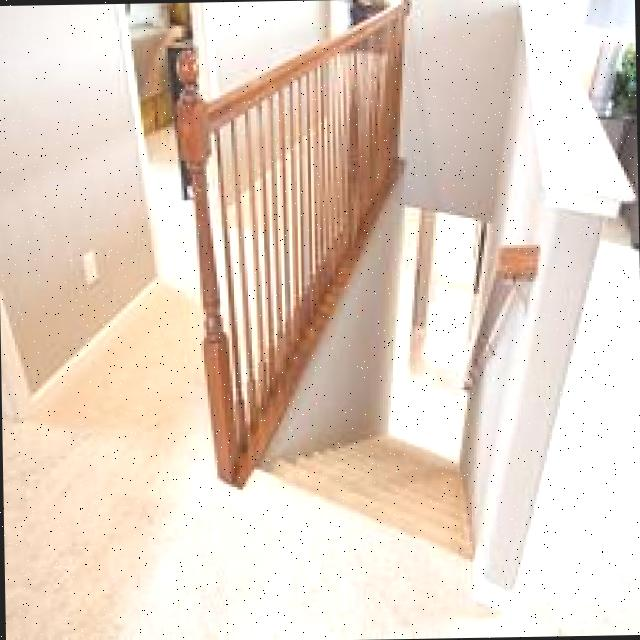stairs: (258, 426, 475, 562)
